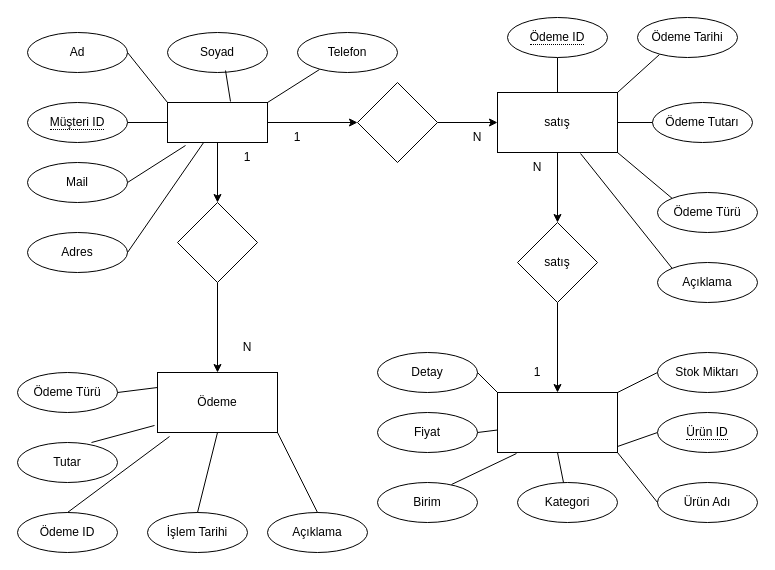
Image size: 775x570. Some labels were removed from this diagram. The shapes that lost their labels are listed below. From the top down, each one's centre as x and y in pixels, then its label:
(217,122): Müşteriler
(397,122): alır
(217,242): öder
(557,422): ürünler
